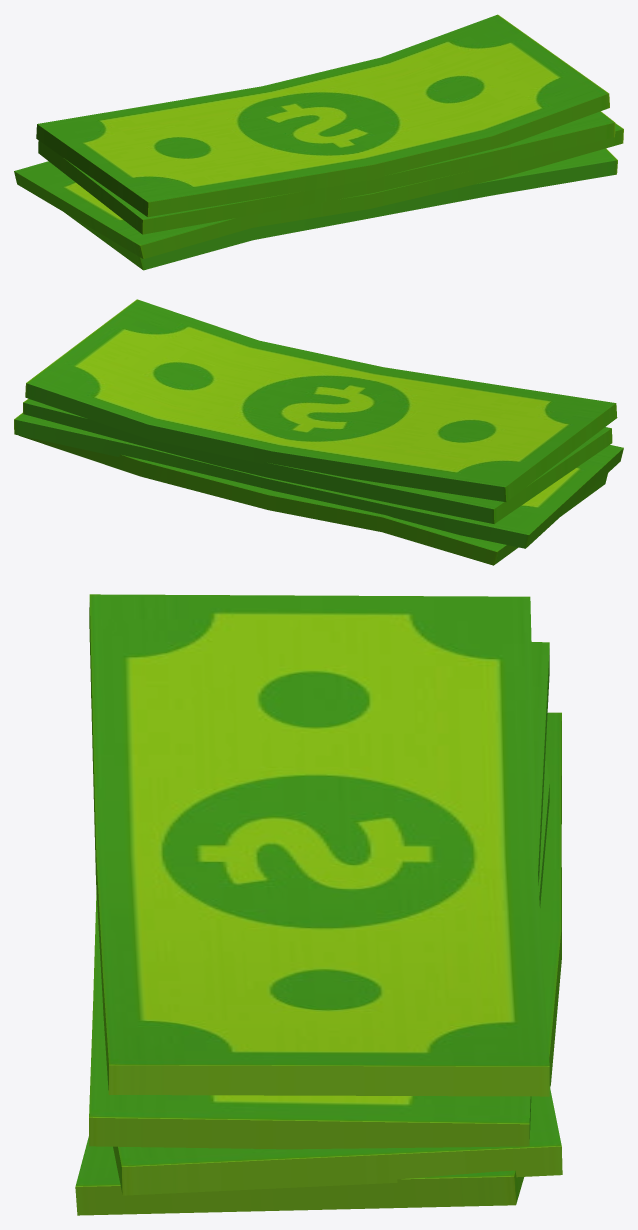
File: Money.fbx
3 renders of one model, top to bottom at view 1: azimuth 30°, elevation 25°; view 2: azimuth 150°, elevation 25°; view 3: azimuth 270°, elevation 25°, orthographic. The views are drawn at different scales.
Visible parts, largest first — view 1: Money; view 2: Money; view 3: Money.
Boxes of the visible parts, bbox=[...] form: Money: bbox=[14, 14, 623, 270]; Money: bbox=[14, 299, 623, 565]; Money: bbox=[75, 594, 562, 1215].
Size of the model in its own units: 1.9 by 0.2986 by 0.7909.
